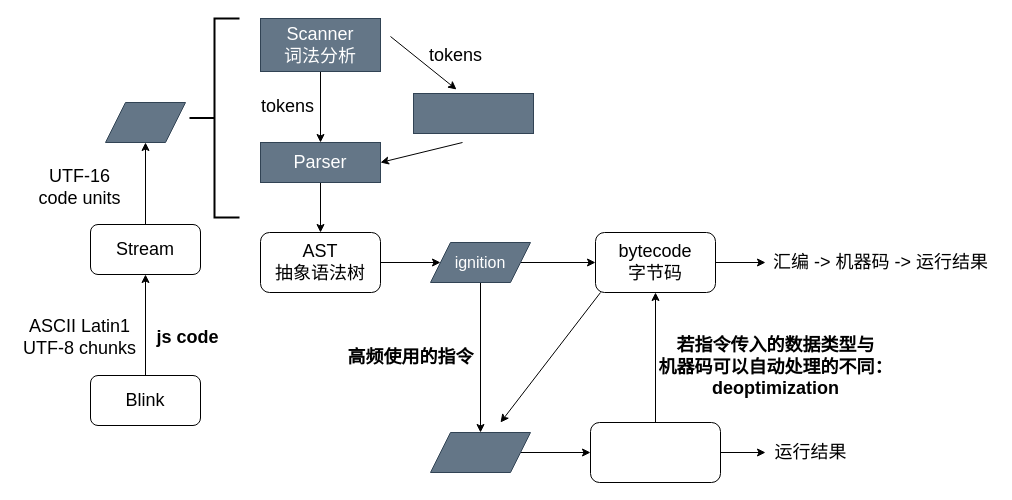
The diagram is 1012 pixels wide and 500 high, and some of its shapes have lost their labels. Each missing label, with the centre of its shape:
"machineCode 优化的机器码" belongs at [655,452].
"parse" belongs at [145,122].
"PreParser" belongs at [473,113].
"TurboFan" belongs at [480,452].
